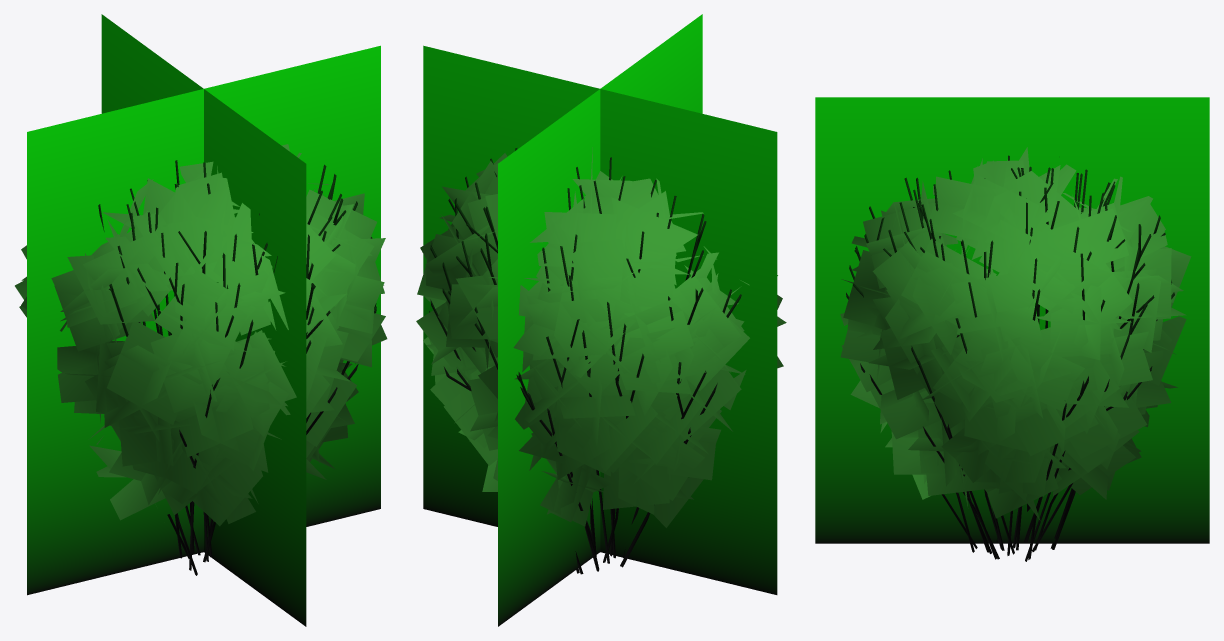
The model's file is IL3DN_Shrub_Round_03.FBX.
The picture shows the model from 3 angles, left to right: view 1: azimuth 30°, elevation 25°; view 2: azimuth 150°, elevation 25°; view 3: azimuth 270°, elevation 25°; orthographic projection. The views are drawn at different scales.
Visible parts, largest first — view 1: IL3DN_Shrub_Round_03_Card, IL3DN_Shrub_Round_03_Leaves_LOD0, IL3DN_Shrub_Round_03_Branch_LOD0; view 2: IL3DN_Shrub_Round_03_Card, IL3DN_Shrub_Round_03_Leaves_LOD0, IL3DN_Shrub_Round_03_Branch_LOD0; view 3: IL3DN_Shrub_Round_03_Leaves_LOD0, IL3DN_Shrub_Round_03_Card, IL3DN_Shrub_Round_03_Branch_LOD0.
Part boxes in pixels (left/top/right/bottom): IL3DN_Shrub_Round_03_Card: left=27, top=14, right=380, bottom=626; IL3DN_Shrub_Round_03_Leaves_LOD0: left=15, top=144, right=387, bottom=526; IL3DN_Shrub_Round_03_Branch_LOD0: left=98, top=160, right=376, bottom=575; IL3DN_Shrub_Round_03_Card: left=423, top=14, right=777, bottom=626; IL3DN_Shrub_Round_03_Leaves_LOD0: left=416, top=147, right=786, bottom=527; IL3DN_Shrub_Round_03_Branch_LOD0: left=429, top=148, right=741, bottom=574; IL3DN_Shrub_Round_03_Leaves_LOD0: left=840, top=147, right=1191, bottom=521; IL3DN_Shrub_Round_03_Card: left=815, top=97, right=1209, bottom=543; IL3DN_Shrub_Round_03_Branch_LOD0: left=846, top=155, right=1174, bottom=561.
Size of what is drawn, in the model's own units: 78.74 by 99.8 by 78.74.
